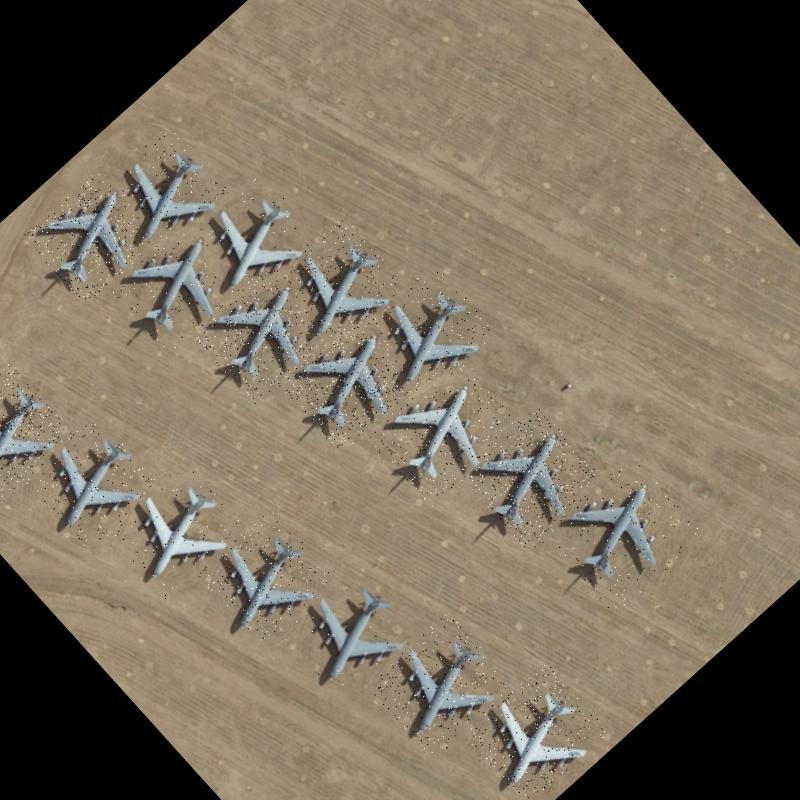A14: (543, 454, 704, 614), (365, 354, 522, 509), (365, 610, 516, 760), (459, 404, 608, 554), (276, 560, 423, 706), (193, 260, 340, 405), (102, 459, 247, 602), (463, 660, 609, 800), (108, 215, 250, 356), (356, 260, 497, 401), (21, 412, 161, 552), (22, 166, 161, 306), (196, 506, 334, 646), (279, 316, 418, 454), (270, 215, 408, 353), (184, 172, 320, 307), (99, 124, 228, 253), (0, 360, 74, 502)
